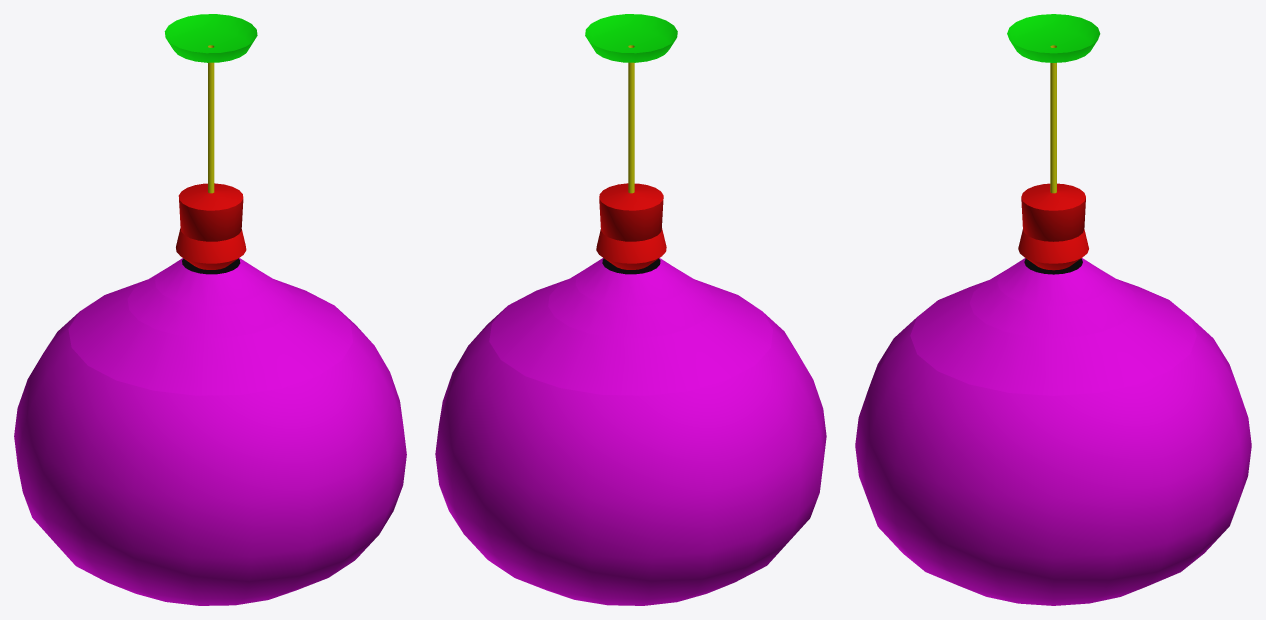
Rendered from SM_HangingBulbLight.fbx.
3 views of the same model, side by side, from view 1: azimuth 30°, elevation 25°; view 2: azimuth 150°, elevation 25°; view 3: azimuth 270°, elevation 25° (orthographic).
Parts seen in each view (by area): view 1: BlLght:Ceiling_BlLght; view 2: BlLght:Ceiling_BlLght; view 3: BlLght:Ceiling_BlLght.
Part boxes in pixels (x1,y1,x2,y2): BlLght:Ceiling_BlLght: (14,14,406,605); BlLght:Ceiling_BlLght: (435,14,826,605); BlLght:Ceiling_BlLght: (855,14,1251,605).
Bounding box in the file's own units: 2.02 × 3.08 × 2.05.
